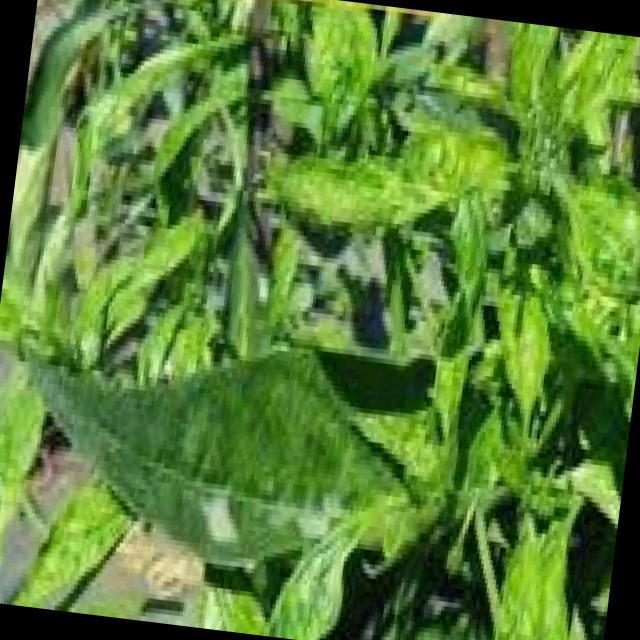Chilli_Leaf_Curl: (0, 0, 640, 640), (8, 302, 458, 595), (270, 69, 521, 255)
